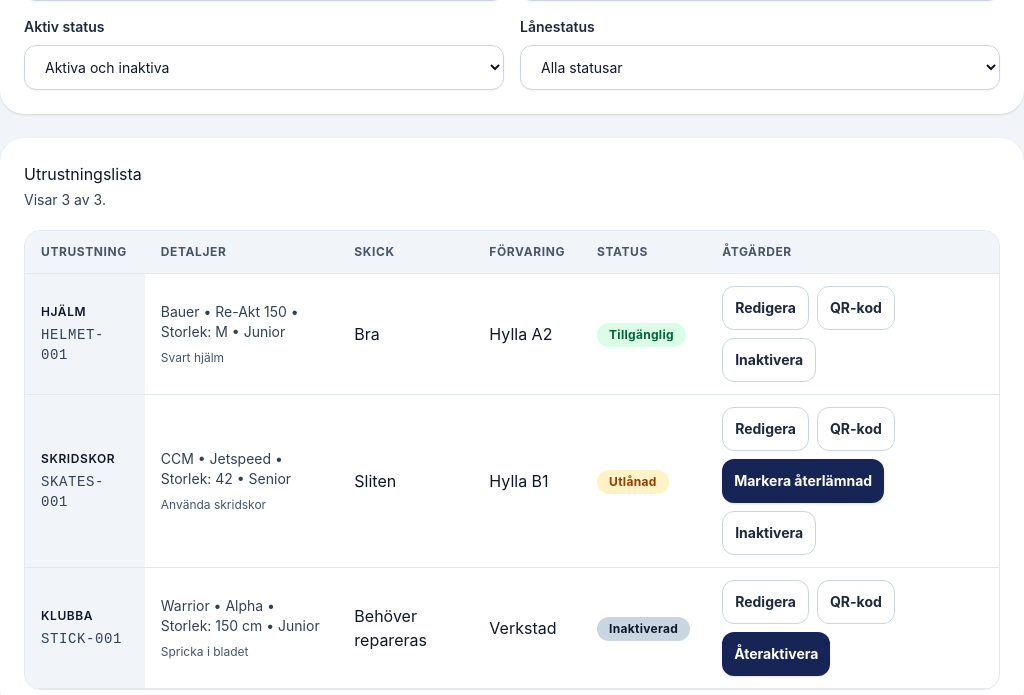
AdminPage › shows error when no active loan exists
(page scrolled)
What coordinates should you click on to do the following:
click the button "Markera återlämnad"
I would click on:
 (803, 481)
Its box is [722, 459, 884, 503].
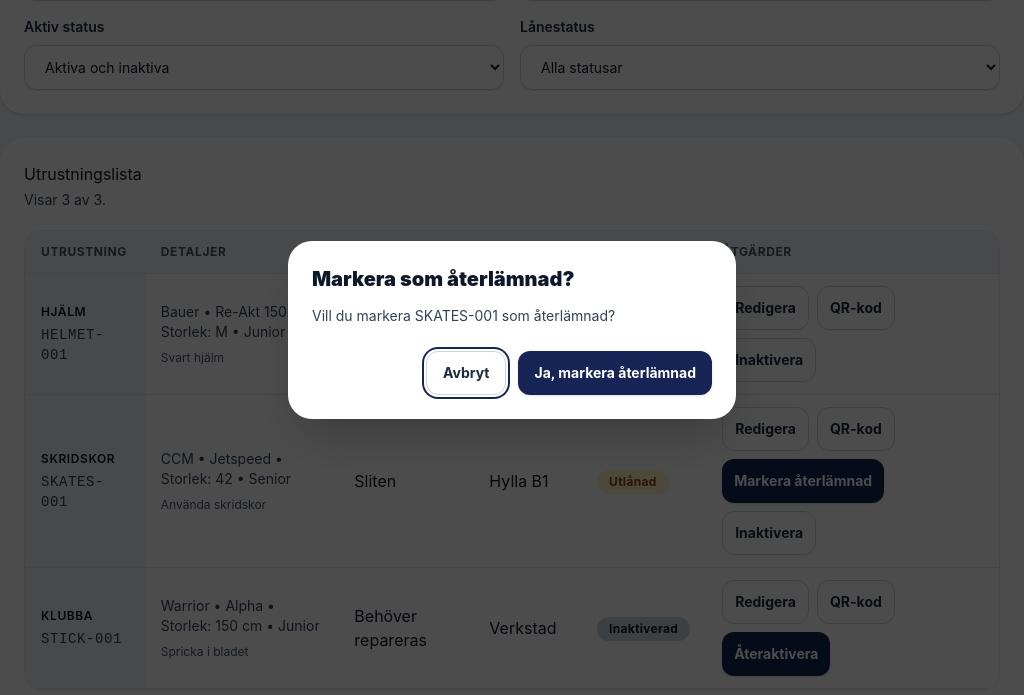
What coordinates should you click on to do the following:
click the button "Ja, markera återlämnad"
I would click on:
 (615, 373)
Its box is [518, 351, 712, 395].
(page scrolled)
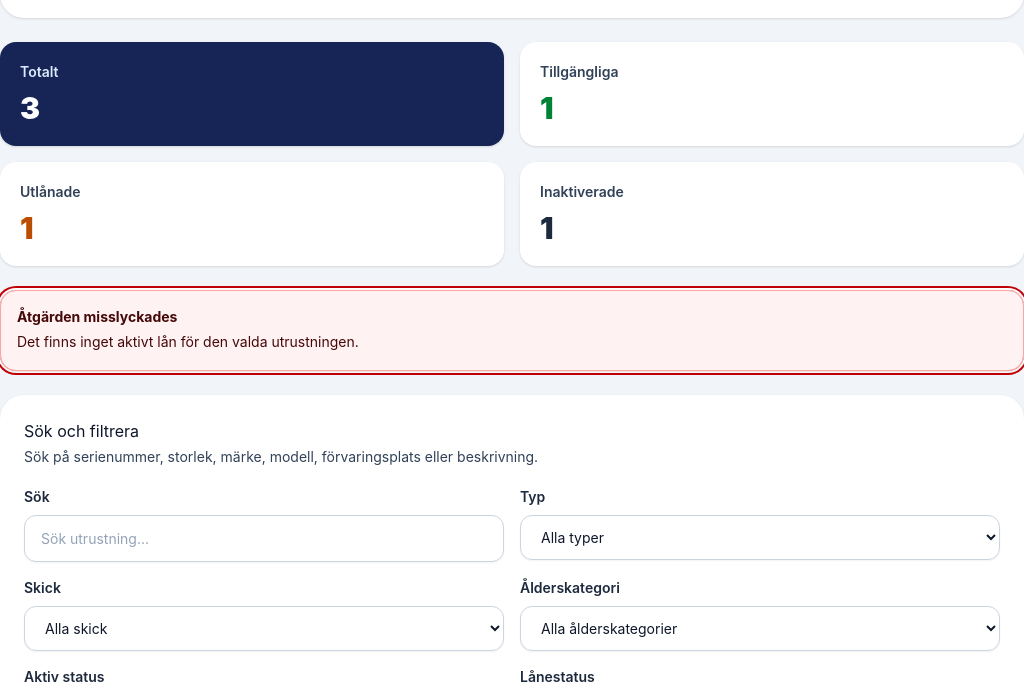
Expected: the message "Åtgärden misslyckades Det finns inget aktivt lån för den valda utrustningen." is shown, [0, 290, 1023, 371]
Expected: the dialog is gone
